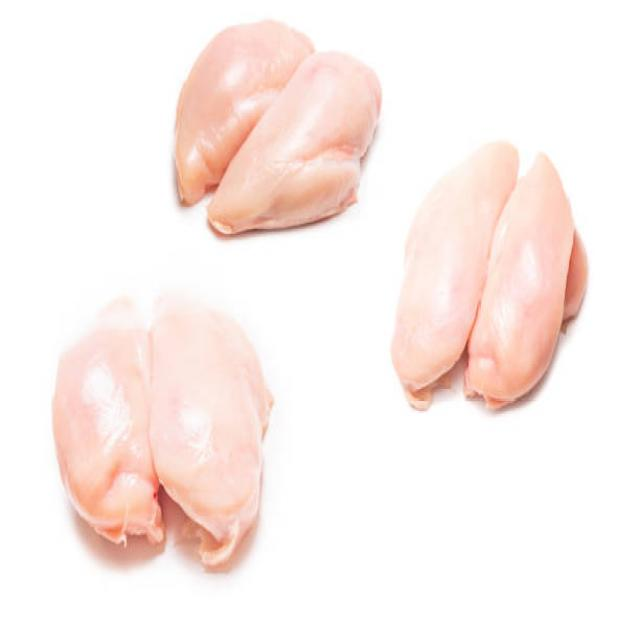Chicken Breast: (38, 272, 312, 585), (383, 111, 584, 448), (128, 0, 391, 231)
